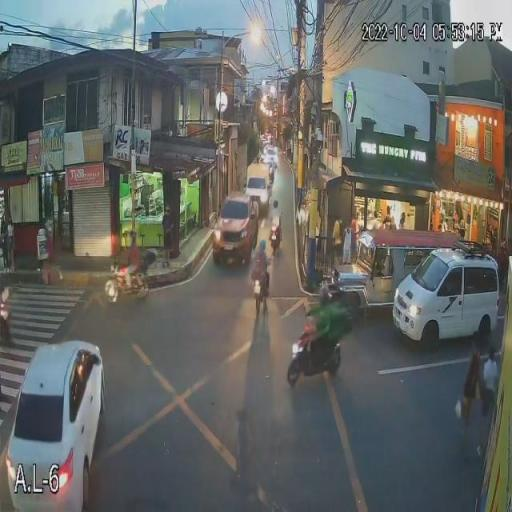helmet: (315, 286, 333, 304), (124, 230, 137, 244), (257, 239, 266, 250), (274, 200, 279, 208)
motorcycle: (286, 322, 342, 388), (104, 265, 149, 302), (250, 274, 270, 314), (270, 226, 282, 256)
rider: (302, 285, 350, 365), (114, 231, 144, 286), (250, 240, 270, 292), (270, 202, 284, 242)
